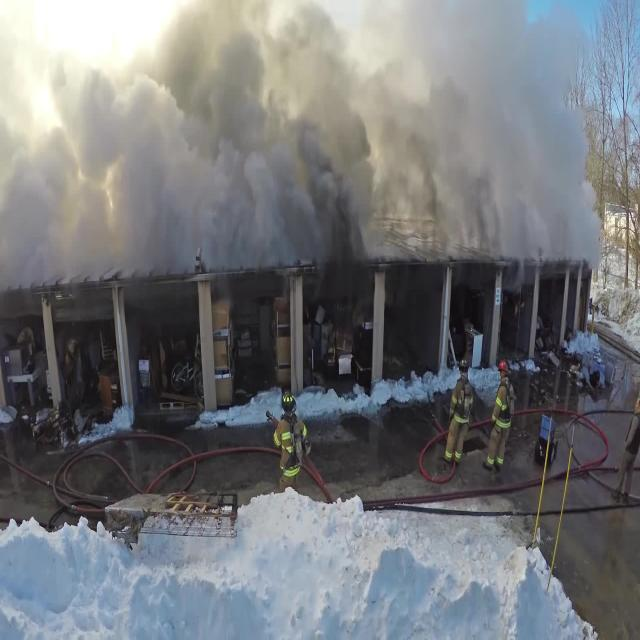Smoke: (4, 2, 608, 276)
